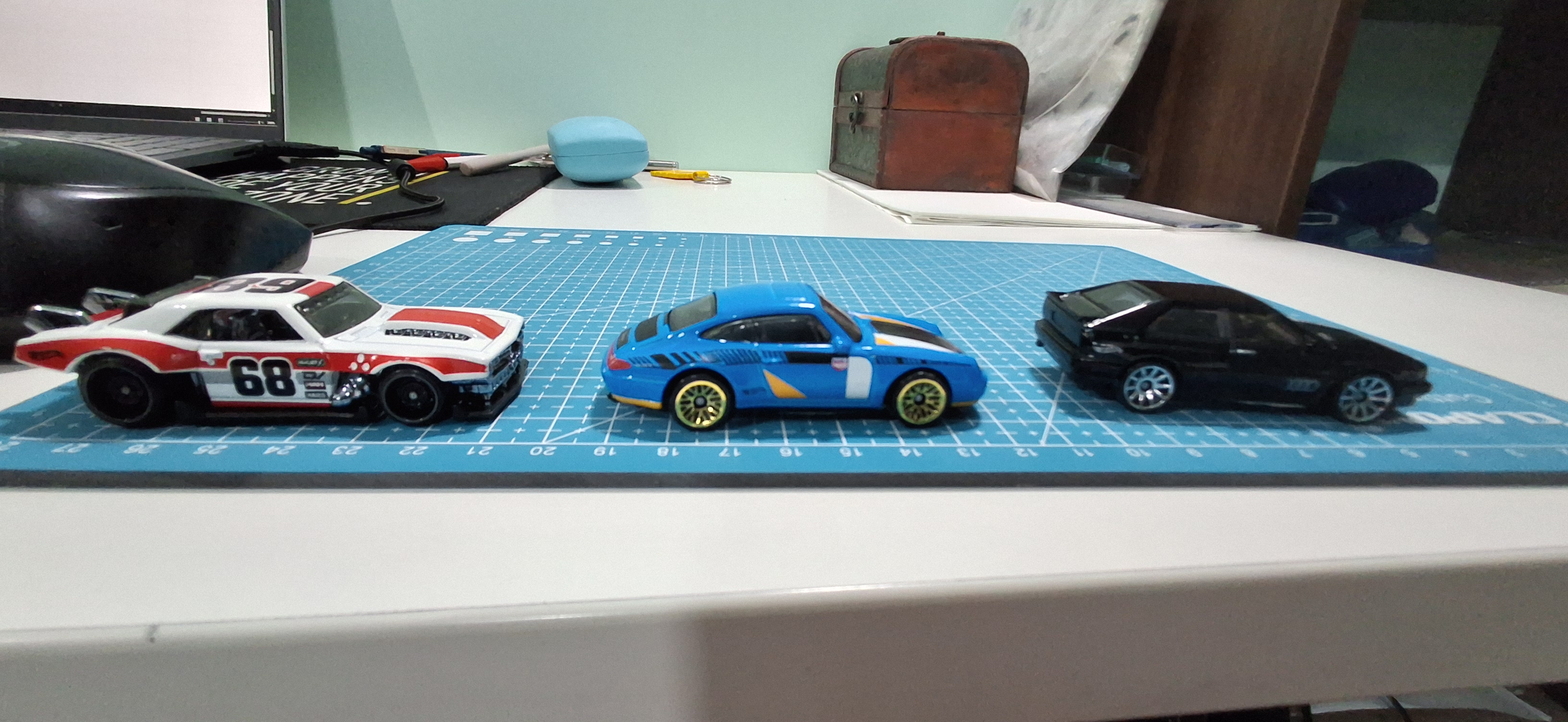Audi_Quattro: (1029, 233, 1489, 441)
Camaro: (0, 269, 532, 459)
Porsche_Carrera: (579, 258, 993, 459)
